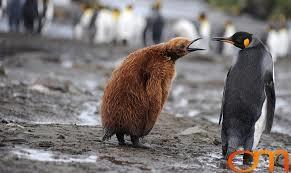king: (201, 29, 285, 166)
